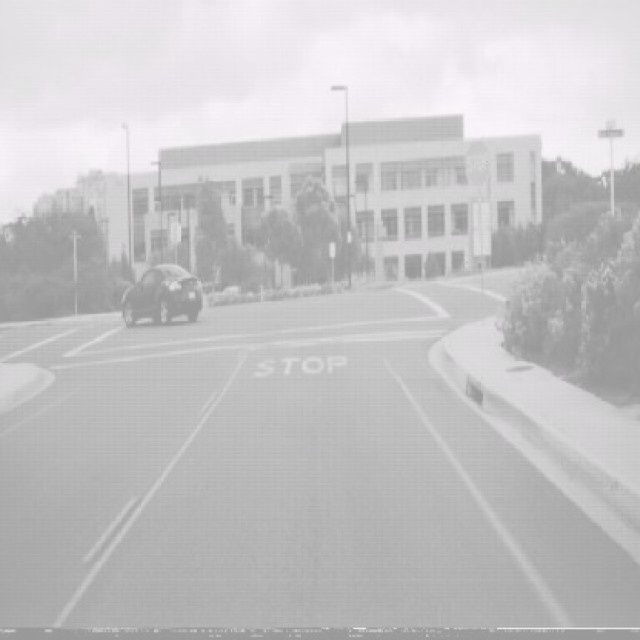stop: (465, 137, 491, 189)
